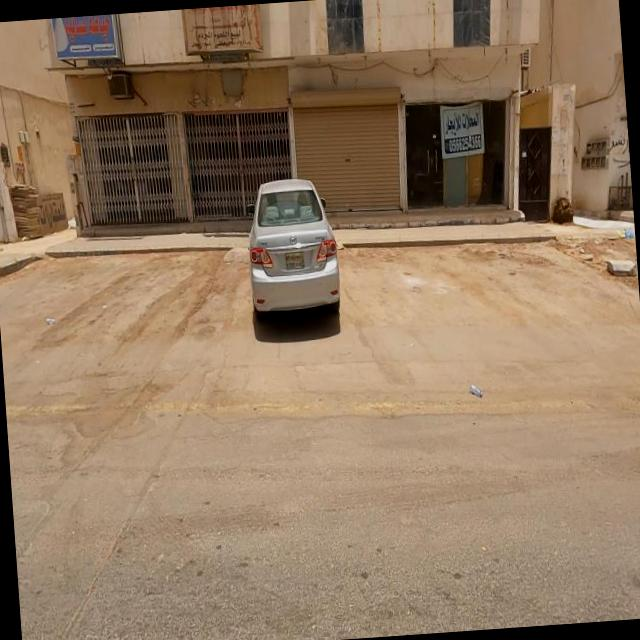debris: (447, 346, 510, 430)
